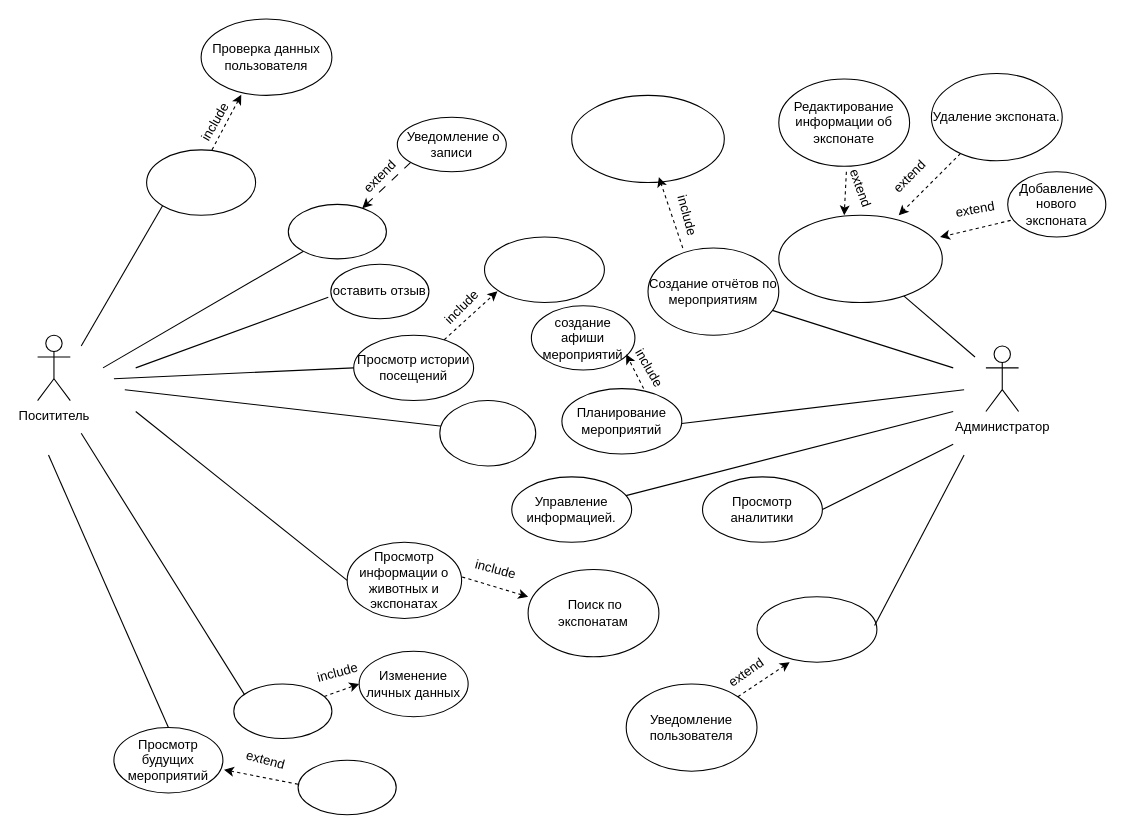
Image size: 1125x834. Some labels were removed from this diagram. Here are the shapes that lost their labels. From the top down, the centre of each, then its label:
At point (647, 138): "Сбор данных с мероприятий (отзывы, посещаемость и т.д.).".
At point (201, 182): "Регистрация".
At point (336, 231): "Запись на мероприятия.".
At point (543, 269): "Запрос данных из базы посещений.".
At point (860, 258): "Управление информацией о животных и экспонатах.".
At point (487, 432): "просмотр афиши мероприятий".
At point (816, 629): "Модерация отзывов".
At point (282, 710): "Управление профилем".
At point (346, 787): "Записаться на мероприяте".
